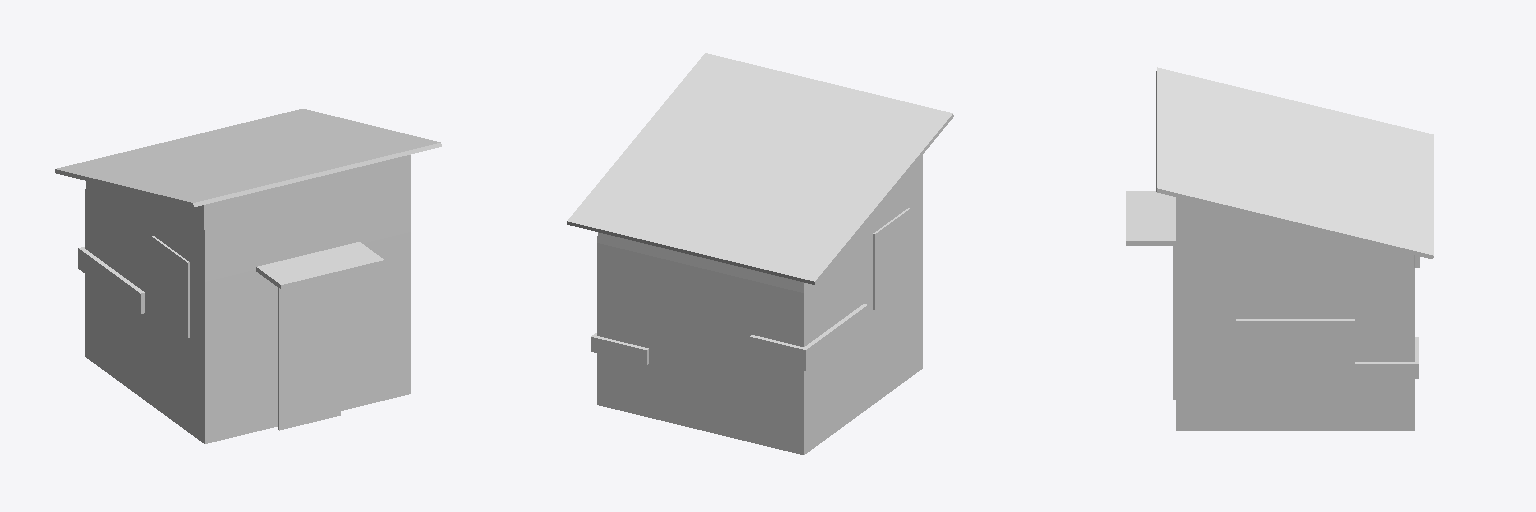
File: SmallHouse1.obj
3 views of the same model, side by side, from view 1: azimuth 30°, elevation 25°; view 2: azimuth 150°, elevation 25°; view 3: azimuth 270°, elevation 25° (orthographic).
Parts seen in each view (by area): view 1: Box, Wood, Glass; view 2: Box, Wood, Glass; view 3: Box, Wood.
Part boxes in pixels (x1,y1,x2,y2): Box: (78, 155, 410, 443); Wood: (55, 109, 441, 289); Glass: (152, 236, 340, 430); Box: (591, 155, 922, 454); Wood: (567, 53, 953, 284); Glass: (873, 208, 910, 309); Box: (1176, 197, 1419, 430); Wood: (1126, 67, 1433, 258).
Size of the model in its own units: 4.76 by 4.7 by 5.12.